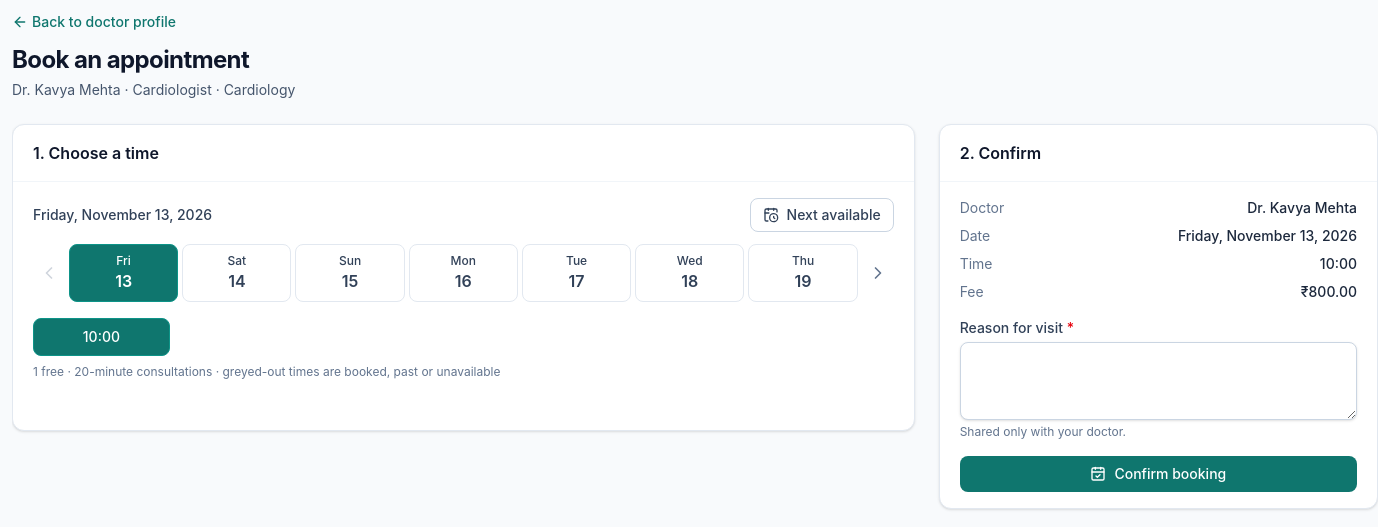
BookAppointmentPage › handles a slot taken by someone else (409) by clearing the selection and reloading slots
The width and height of the screenshot is (1378, 527).
In the text box labelled "Reason for visit *": (1158, 381) [960, 342, 1357, 420], type "Checkup"
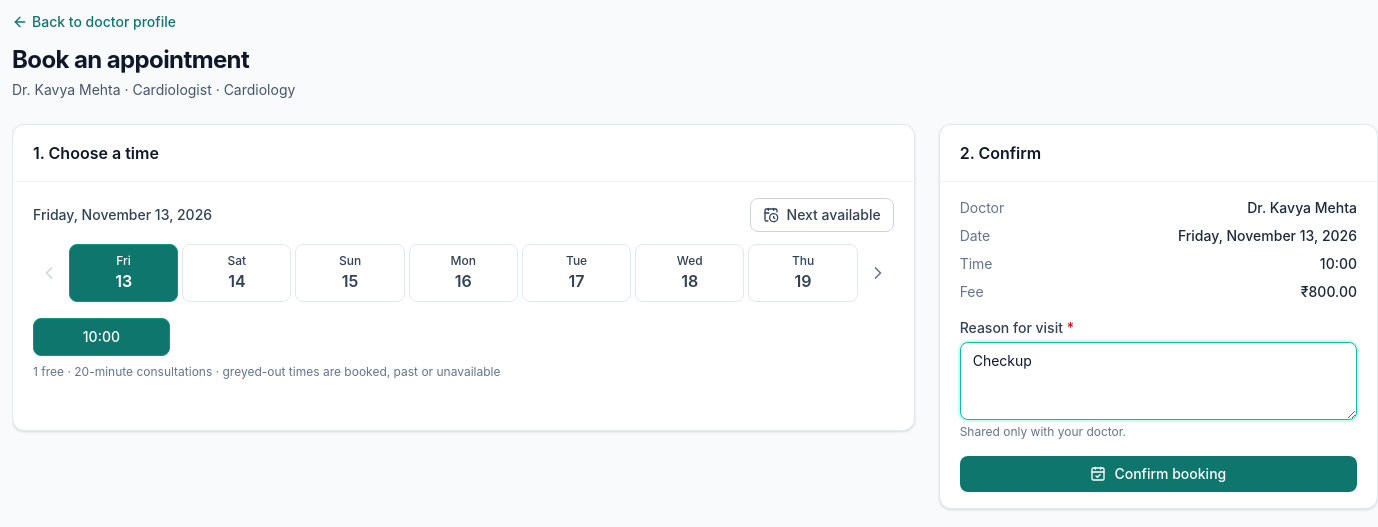
Click the button "Confirm booking": (1158, 474) [960, 456, 1357, 492]
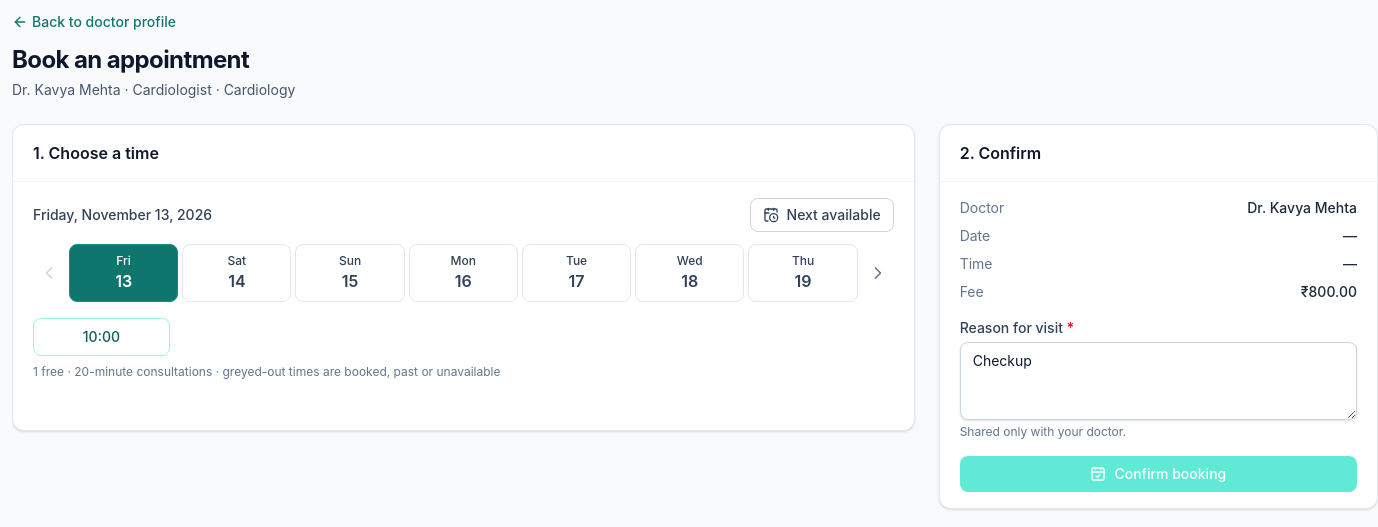
Expected: the button "Confirm booking" is disabled, [960, 456, 1357, 492]
